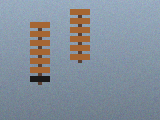defect: (30, 75, 50, 83)
insulator: (28, 20, 52, 86), (68, 7, 92, 64)
